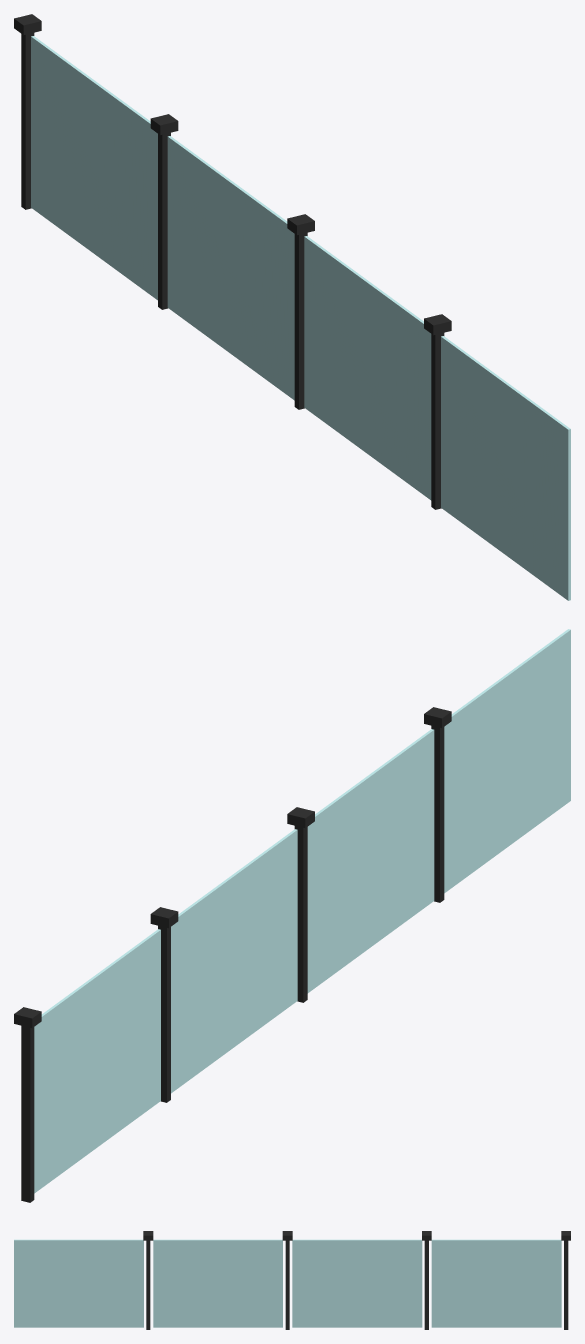
The model's file is Balcony.014.fbx.
3 views of the same model, one above another, from view 1: azimuth 30°, elevation 25°; view 2: azimuth 150°, elevation 25°; view 3: azimuth 270°, elevation 25° (orthographic). The views are drawn at different scales.
Visible parts, largest first — view 1: Balcony.014; view 2: Balcony.014; view 3: Balcony.014.
Part boxes in pixels (x1=…): Balcony.014: x1=14, y1=14, x2=570, y2=600; Balcony.014: x1=14, y1=629, x2=570, y2=1202; Balcony.014: x1=14, y1=1231, x2=570, y2=1329.
Bounding box in the file's own units: 44.44 × 437 × 2309.
